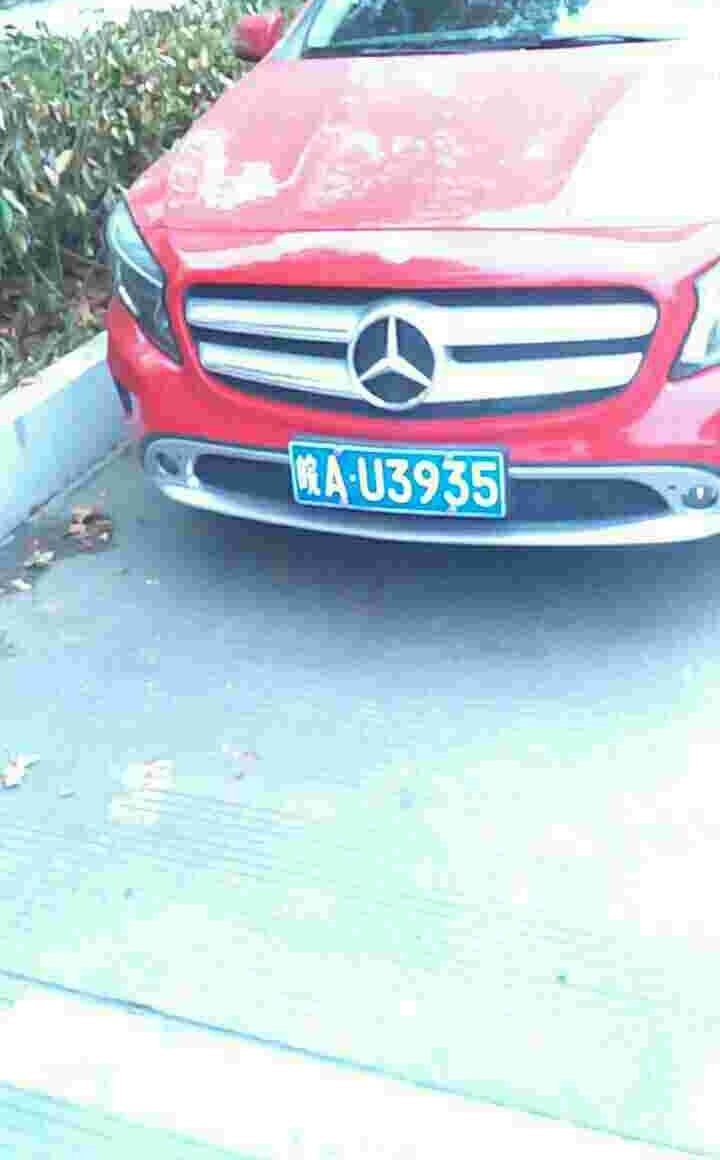license_plate: (282, 450, 509, 524)
